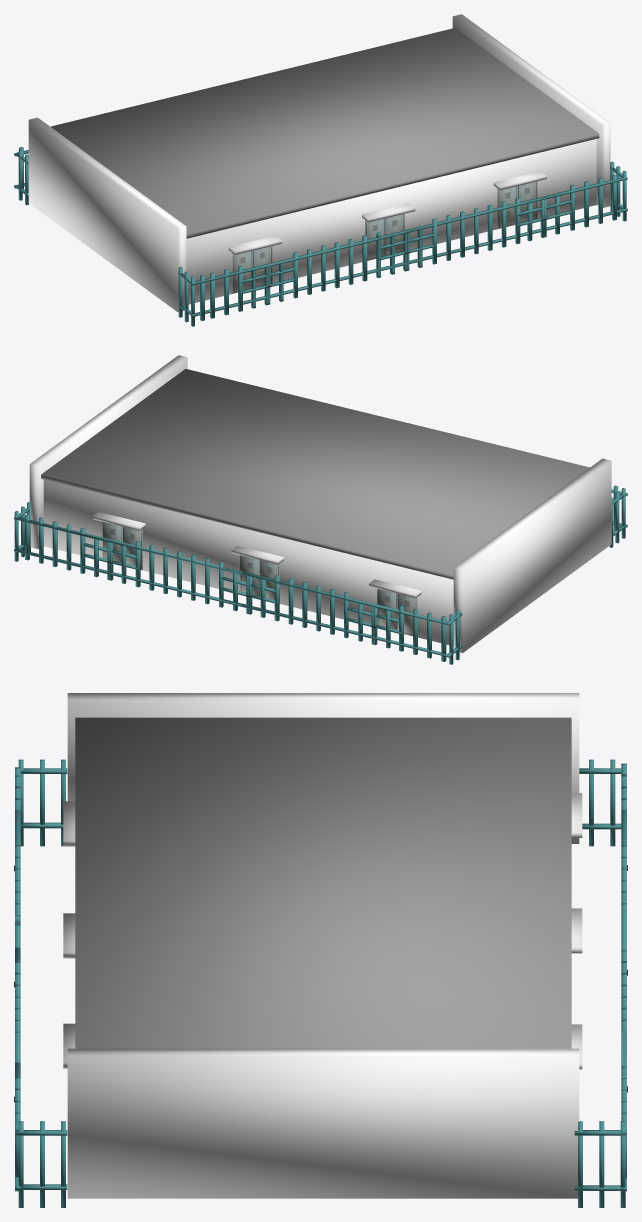
File: cwa_2f_mini.gltf
3 renders of one model, top to bottom at view 1: azimuth 30°, elevation 25°; view 2: azimuth 150°, elevation 25°; view 3: azimuth 270°, elevation 25°, orthographic. The views are drawn at different scales.
Visible parts, largest first — view 1: cwa_waiguan_11, cwa_waiguan_12, cwa_waiguan_13, cwa_waiguan_14, cwa_waiguan_43, cwa_waiguan_41, cwa_waiguan_58, cwa_waiguan_83, cwa_waiguan_81, cwa_waiguan_79, cwa_waiguan_80, cwa_waiguan_82 (+5 smaller); view 2: cwa_waiguan_11, cwa_waiguan_12, cwa_waiguan_13, cwa_waiguan_14, cwa_waiguan_24, cwa_waiguan_34, cwa_waiguan_39, cwa_waiguan_36, cwa_waiguan_88, cwa_waiguan_86, cwa_waiguan_84, cwa_waiguan_85 (+5 smaller); view 3: cwa_waiguan_11, cwa_waiguan_14, cwa_waiguan_13.
Boxes of the visible parts, x1=… form: cwa_waiguan_11: x1=51, y1=28, x2=599, y2=238; cwa_waiguan_12: x1=186, y1=139, x2=596, y2=304; cwa_waiguan_13: x1=28, y1=117, x2=186, y2=311; cwa_waiguan_14: x1=452, y1=14, x2=610, y2=207; cwa_waiguan_43: x1=190, y1=230, x2=406, y2=285; cwa_waiguan_41: x1=190, y1=259, x2=419, y2=317; cwa_waiguan_58: x1=400, y1=208, x2=627, y2=264; cwa_waiguan_83: x1=497, y1=186, x2=517, y2=228; cwa_waiguan_81: x1=365, y1=218, x2=385, y2=260; cwa_waiguan_79: x1=232, y1=251, x2=252, y2=293; cwa_waiguan_80: x1=385, y1=213, x2=404, y2=255; cwa_waiguan_82: x1=518, y1=181, x2=537, y2=222; cwa_waiguan_11: x1=41, y1=369, x2=589, y2=579; cwa_waiguan_12: x1=43, y1=479, x2=453, y2=645; cwa_waiguan_13: x1=453, y1=458, x2=611, y2=652; cwa_waiguan_14: x1=29, y1=355, x2=187, y2=549; cwa_waiguan_24: x1=14, y1=517, x2=242, y2=574; cwa_waiguan_34: x1=223, y1=567, x2=451, y2=625; cwa_waiguan_39: x1=14, y1=549, x2=241, y2=606; cwa_waiguan_36: x1=222, y1=599, x2=451, y2=657; cwa_waiguan_88: x1=377, y1=589, x2=397, y2=629; cwa_waiguan_86: x1=240, y1=555, x2=260, y2=596; cwa_waiguan_84: x1=102, y1=522, x2=122, y2=562; cwa_waiguan_85: x1=123, y1=527, x2=142, y2=570; cwa_waiguan_11: x1=75, y1=717, x2=571, y2=1048; cwa_waiguan_14: x1=67, y1=1048, x2=579, y2=1198; cwa_waiguan_13: x1=67, y1=693, x2=579, y2=843.
Bounding box in the file's own units: 155 × 29.89 × 110.
Materials: 6 (1 with a texture image).
